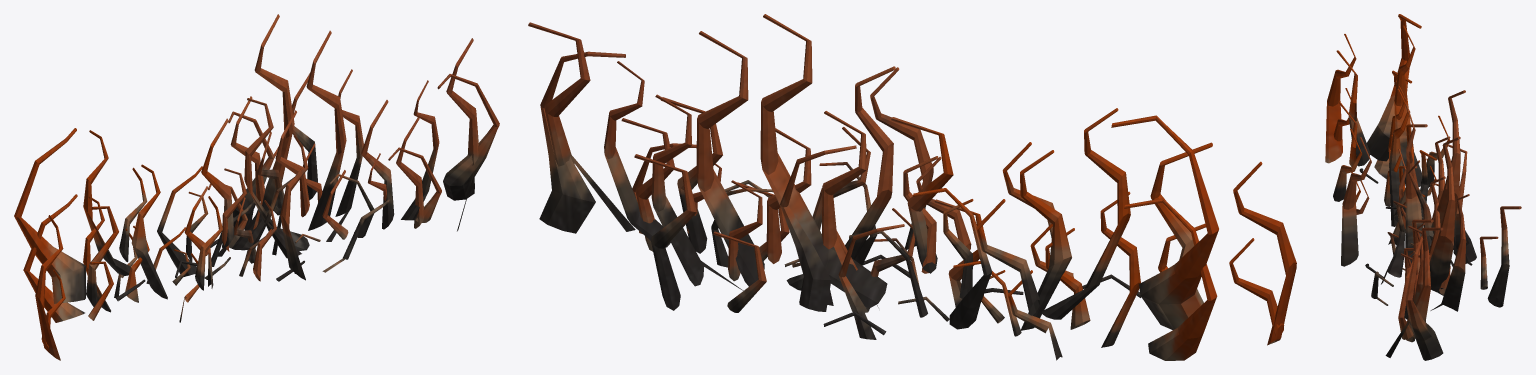
File: ronces_blocantes.glb
3 views of the same model, side by side, from view 1: azimuth 30°, elevation 25°; view 2: azimuth 150°, elevation 25°; view 3: azimuth 270°, elevation 25° (orthographic). The views are drawn at different scales.
Visible parts, largest first — view 1: ronces_blocantes -noimp; view 2: ronces_blocantes -noimp; view 3: ronces_blocantes -noimp.
Boxes of the visible parts, <box> form: ronces_blocantes -noimp: <box>14,14,499,360</box>; ronces_blocantes -noimp: <box>528,14,1296,360</box>; ronces_blocantes -noimp: <box>1325,14,1521,360</box>.
Size of the model in its own units: 9.84 by 4.17 by 3.59.
Materials: 1 (1 with a texture image).
